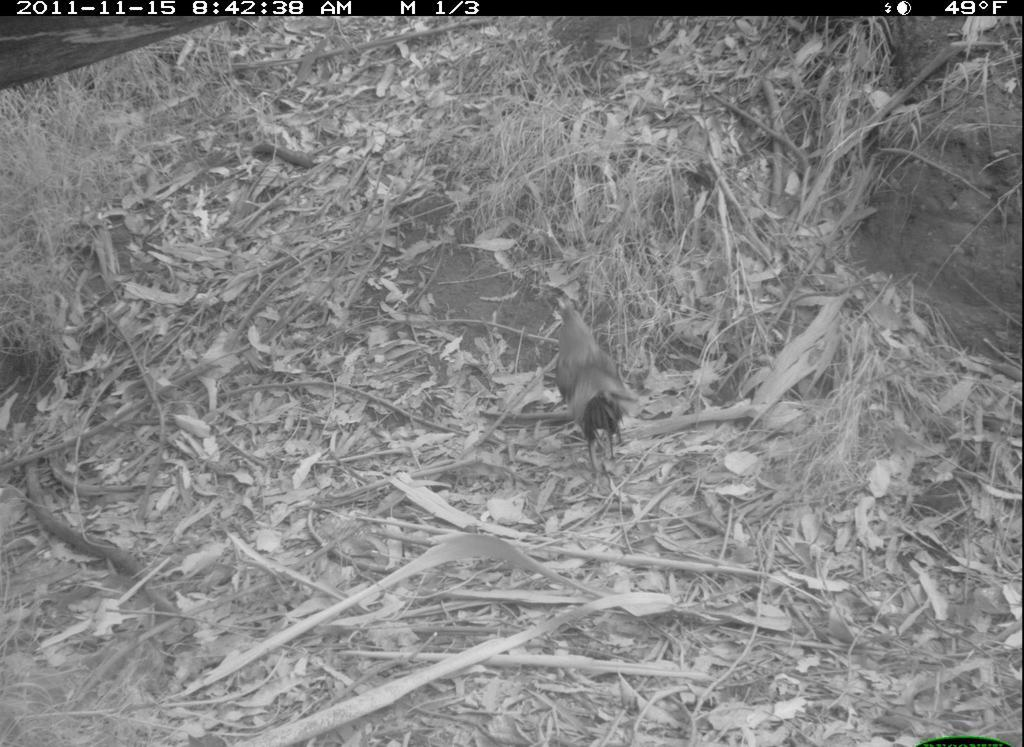bird: (536, 295, 652, 479)
